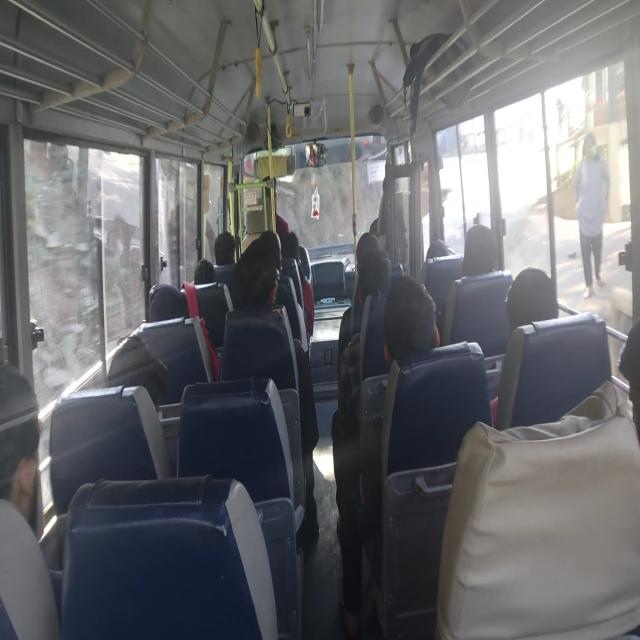person: (0, 385, 65, 556), (392, 270, 448, 354), (498, 269, 556, 346), (102, 343, 158, 418), (139, 277, 187, 347), (454, 219, 500, 284), (239, 245, 280, 314), (212, 227, 248, 276), (194, 251, 226, 295), (284, 235, 310, 286), (419, 217, 445, 263), (263, 238, 292, 279), (370, 255, 400, 292), (360, 239, 384, 269)
